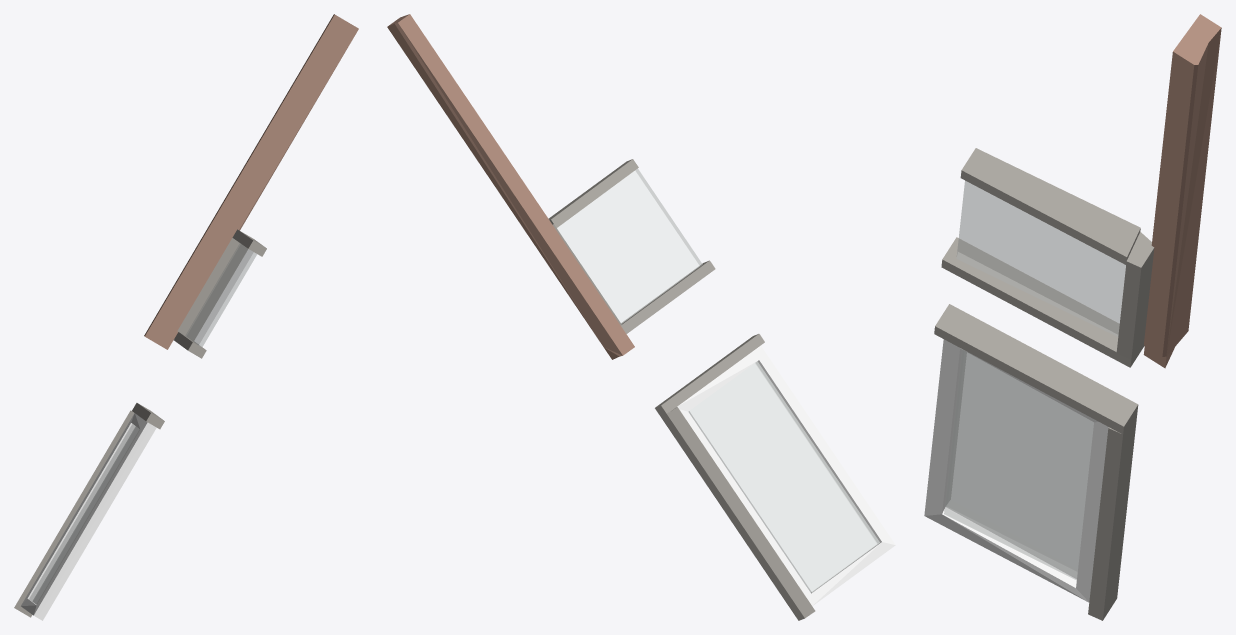
3 views of the same model, side by side, from view 1: azimuth 30°, elevation 25°; view 2: azimuth 150°, elevation 25°; view 3: azimuth 270°, elevation 25° (orthographic). The views are drawn at different scales.
Visible parts, largest first — view 1: mesh; view 2: mesh; view 3: mesh.
Part boxes in pixels (left/top/right/bottom): mesh: left=14, top=14, right=358, bottom=620; mesh: left=387, top=14, right=895, bottom=620; mesh: left=924, top=14, right=1221, bottom=620.
Bounding box in the file's own units: 3.17 × 3.81 × 1.14.
